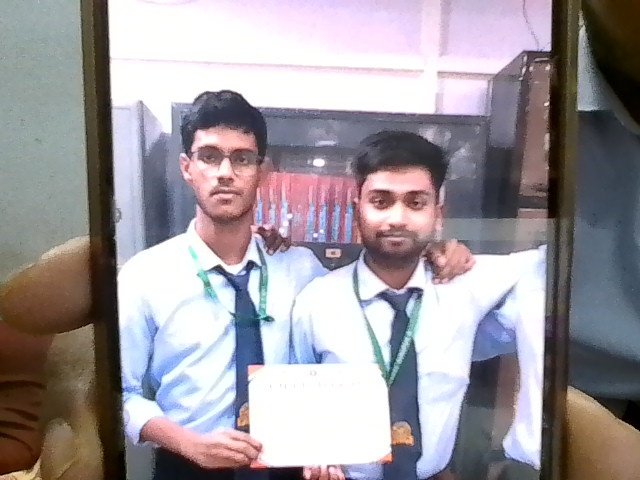real: (171, 86, 282, 244), (342, 136, 444, 280)
